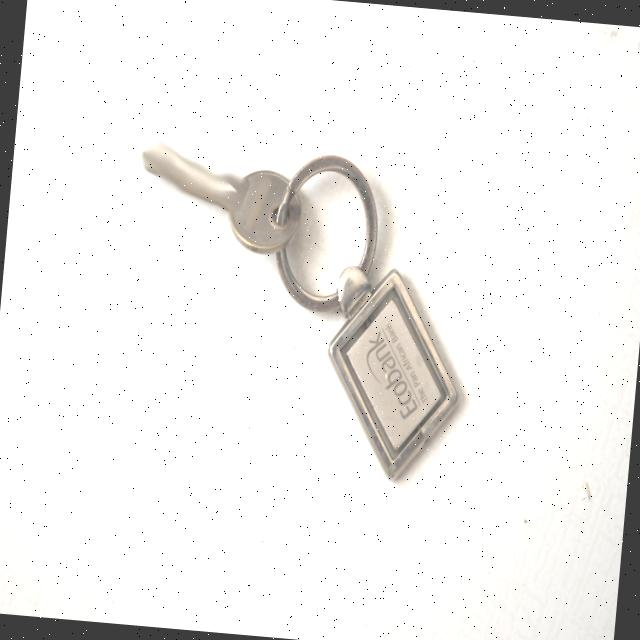Frontdoor keys: (133, 134, 304, 258)
